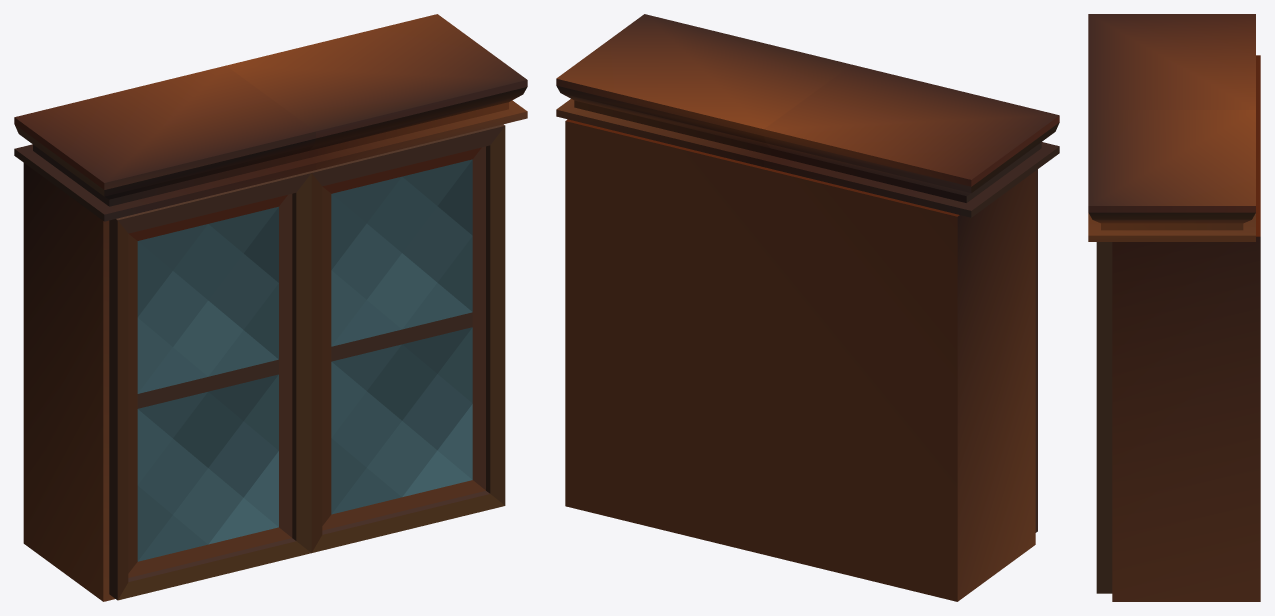
The model's file is Furniture_CupboardC.fbx.
3 renders of one model, left to right at view 1: azimuth 30°, elevation 25°; view 2: azimuth 150°, elevation 25°; view 3: azimuth 270°, elevation 25°, orthographic. The views are drawn at different scales.
Parts seen in each view (by area): view 1: Furniture_CupboardC; view 2: Furniture_CupboardC; view 3: Furniture_CupboardC.
Part boxes in pixels (x1,y1,x2,y2): Furniture_CupboardC: (14, 14, 527, 601); Furniture_CupboardC: (556, 14, 1059, 601); Furniture_CupboardC: (1088, 14, 1260, 601).
Size of the model in its own units: 179 by 175 by 67.91.
